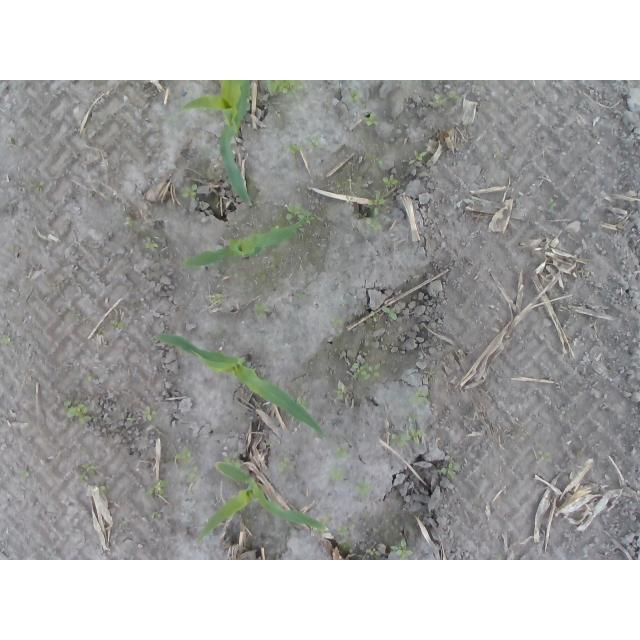Maize: (152, 332, 332, 444), (157, 84, 254, 209), (196, 459, 328, 545), (181, 219, 308, 274)
Weeds: (365, 192, 387, 233), (64, 402, 91, 428), (385, 430, 424, 447), (284, 204, 313, 225), (285, 140, 323, 156), (125, 407, 155, 426), (265, 83, 303, 98), (354, 361, 382, 381), (429, 92, 460, 108), (391, 540, 413, 560), (146, 481, 167, 500), (182, 467, 199, 489), (332, 525, 352, 543), (76, 467, 100, 481), (381, 307, 399, 325), (408, 392, 427, 409), (333, 383, 347, 406), (173, 448, 192, 464), (181, 185, 200, 201), (355, 480, 370, 500), (443, 462, 458, 482), (143, 236, 158, 252), (328, 470, 347, 482), (212, 292, 224, 311), (280, 459, 296, 473), (383, 176, 398, 190), (411, 151, 426, 165), (365, 549, 384, 560), (538, 450, 554, 463), (255, 302, 270, 315), (24, 182, 45, 191), (363, 114, 378, 126), (338, 446, 351, 458), (297, 395, 308, 409), (112, 319, 127, 329), (124, 219, 136, 229), (548, 199, 557, 212), (100, 482, 109, 494), (1, 335, 11, 345), (300, 294, 311, 303), (376, 158, 385, 167), (352, 89, 360, 99)
